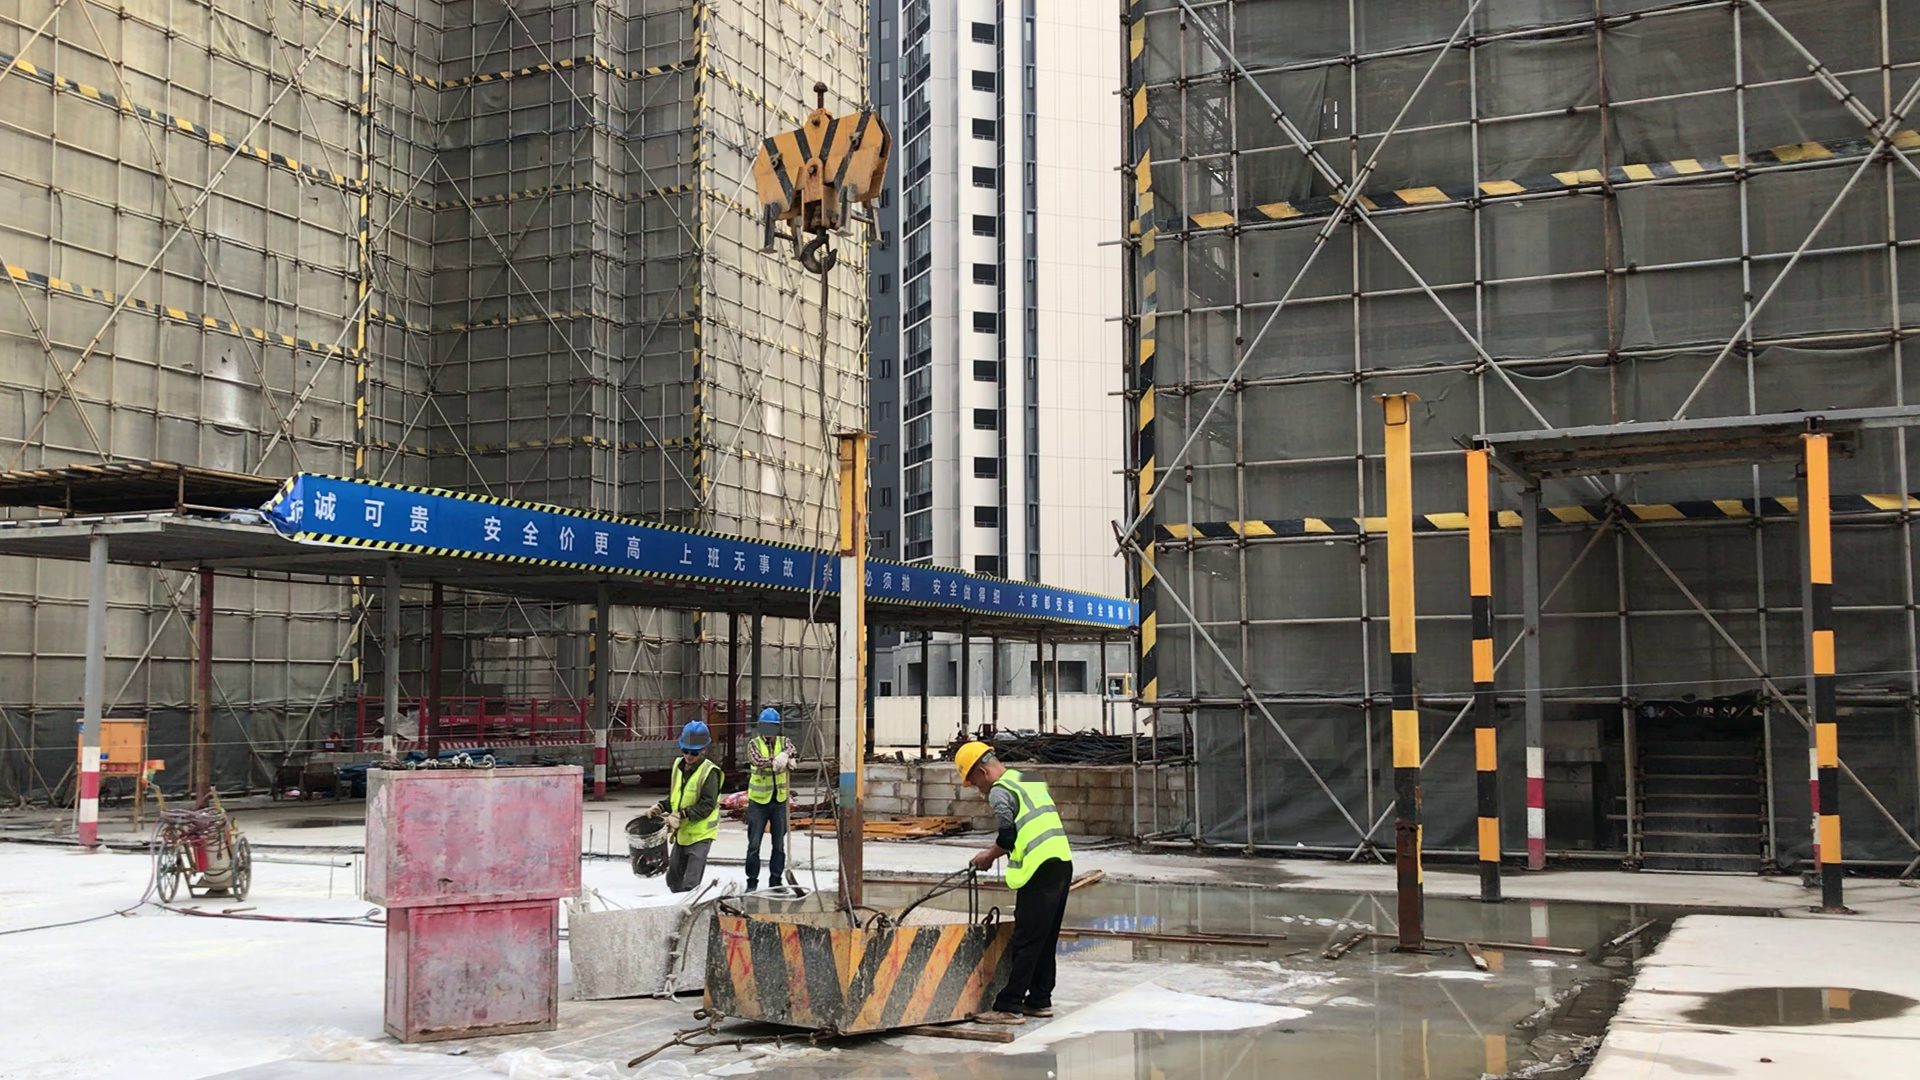ebox: (100, 709, 150, 835)
fence: (303, 476, 806, 582), (866, 558, 1125, 634), (446, 693, 587, 746), (614, 693, 678, 739)
handcart: (145, 779, 256, 906)
helmet: (950, 741, 998, 789), (673, 721, 715, 753), (757, 709, 784, 725)
hook: (752, 82, 895, 280)
hopper: (685, 891, 999, 1041), (565, 891, 707, 998)
person: (949, 740, 1080, 1028), (658, 719, 723, 897), (745, 707, 801, 895)
vest: (987, 768, 1075, 889), (668, 753, 721, 846), (748, 736, 790, 806)
